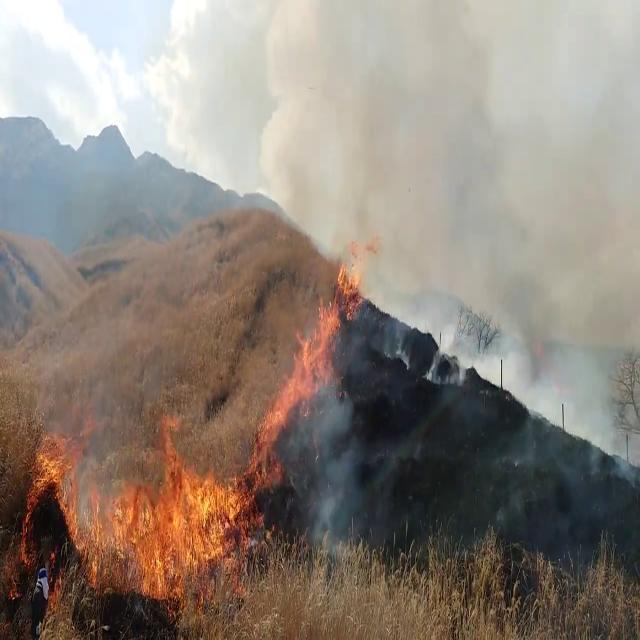Fire: (18, 408, 244, 600), (258, 242, 362, 464)
Smoke: (346, 29, 640, 496)
